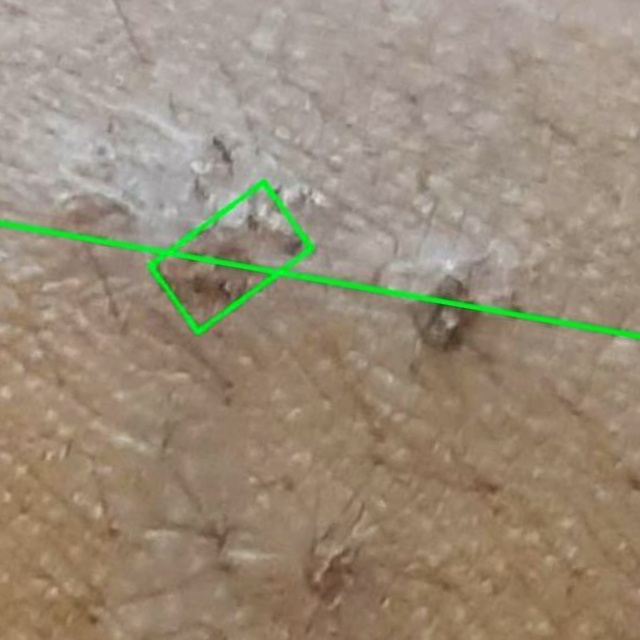Atopic Dermatitis: (0, 0, 639, 336), (149, 183, 311, 332)
